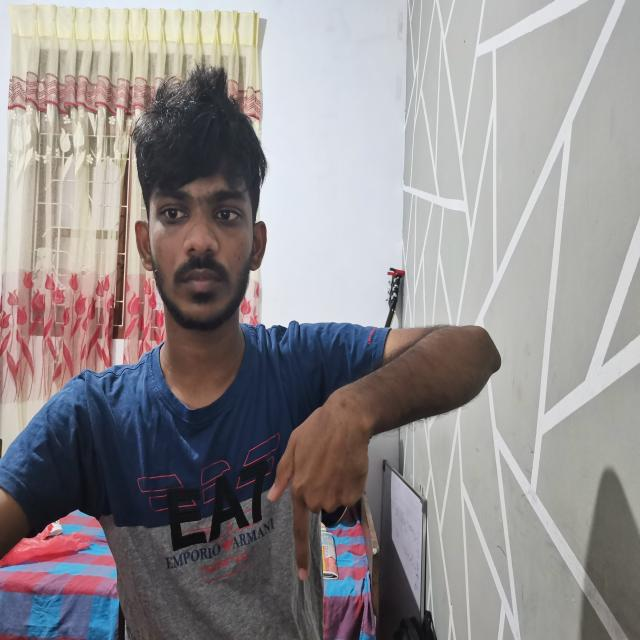Yes: (254, 380, 404, 602)
